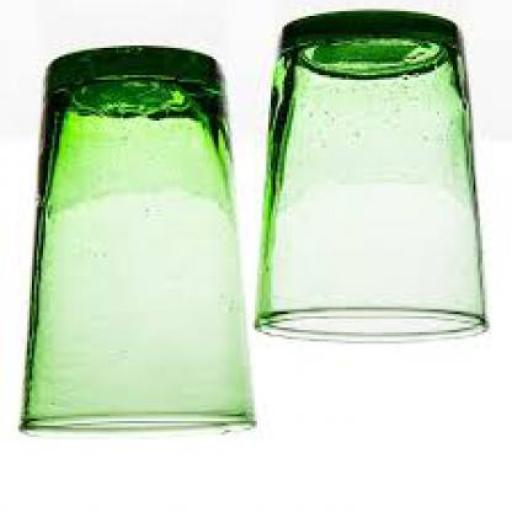glass: (18, 50, 252, 440), (253, 16, 484, 343)
